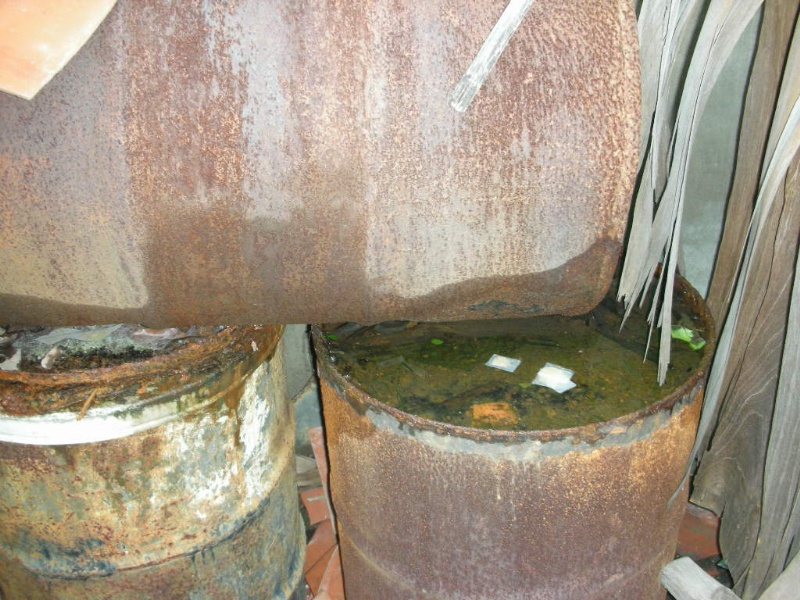bucket: (307, 255, 720, 600), (1, 323, 302, 600)
